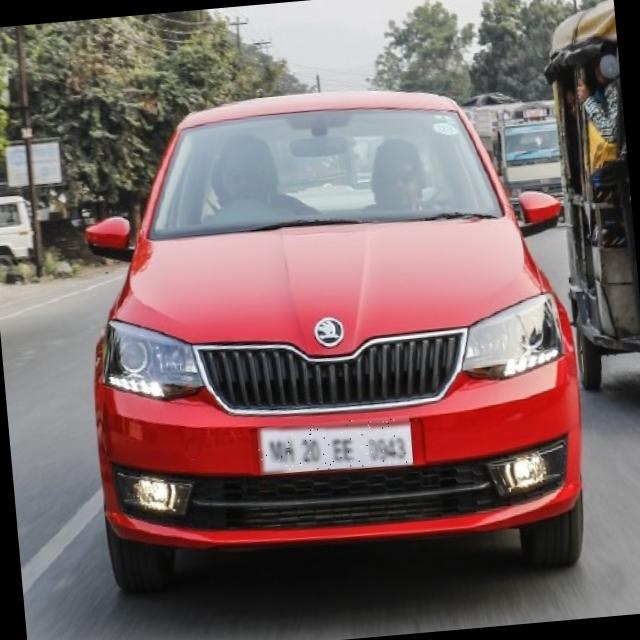Plate: (258, 416, 414, 476)
